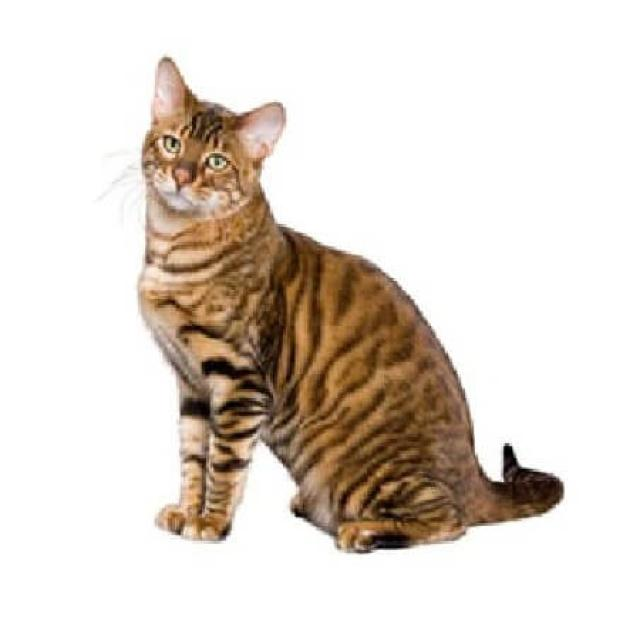Toyger: (132, 51, 571, 560)
